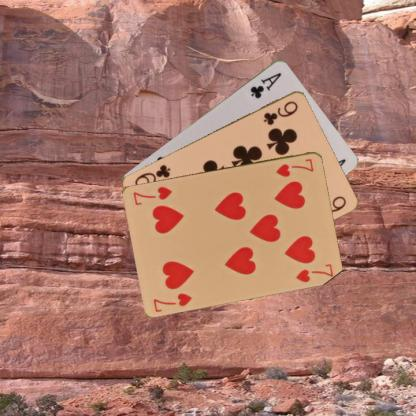7h: (150, 290, 193, 313), (274, 155, 315, 178)
9c: (261, 98, 299, 126)
Ac: (247, 69, 283, 100)
